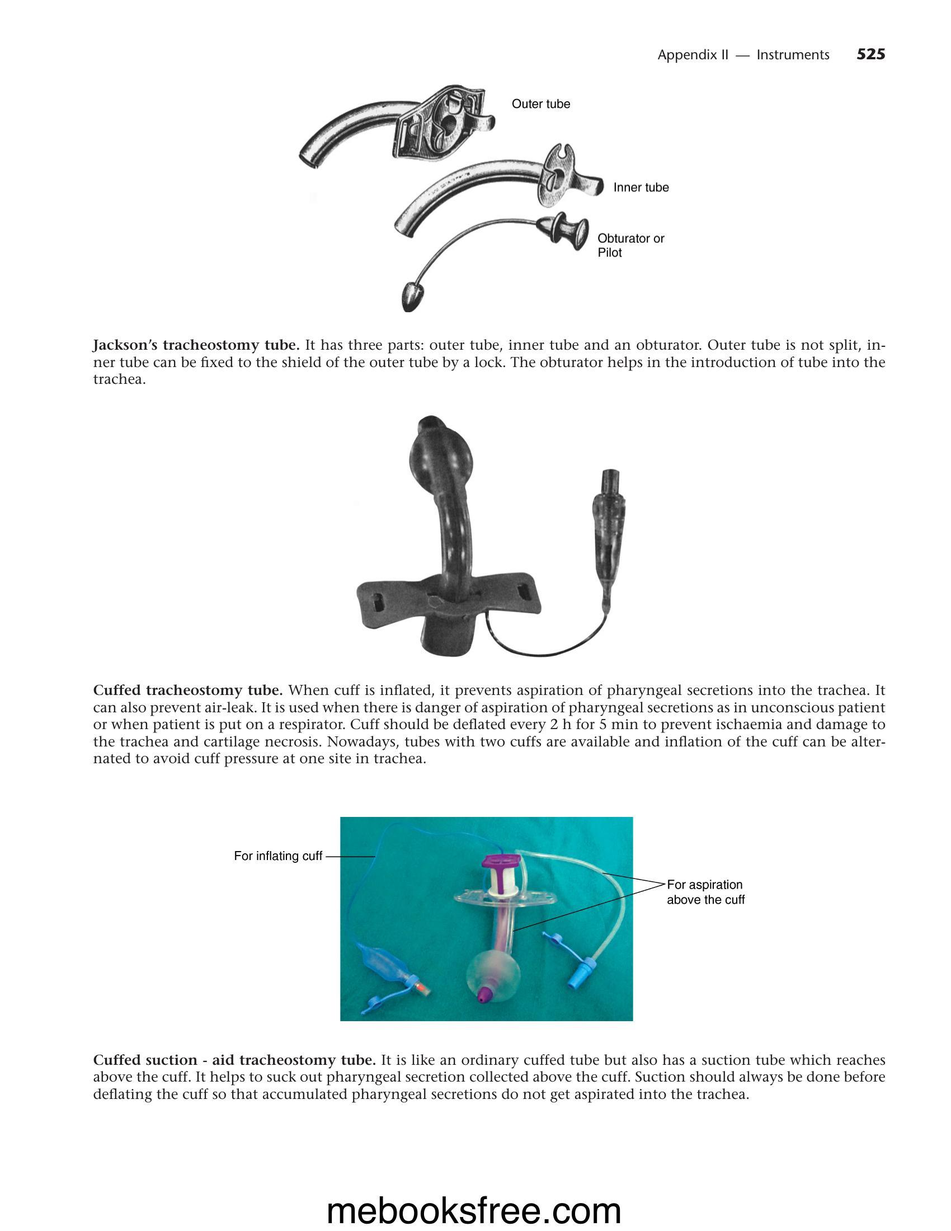header: (657, 48, 830, 64)
image: (227, 814, 752, 1021), (286, 73, 692, 330), (330, 396, 664, 672)
text: (92, 681, 887, 769), (91, 1051, 888, 1104), (90, 336, 887, 388)
